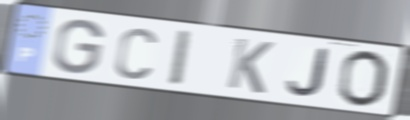C: (112, 25, 159, 82)
G: (50, 18, 107, 77)
I: (168, 28, 194, 89)
J: (284, 47, 331, 99)
K: (225, 35, 276, 96)
O: (334, 48, 390, 109)
